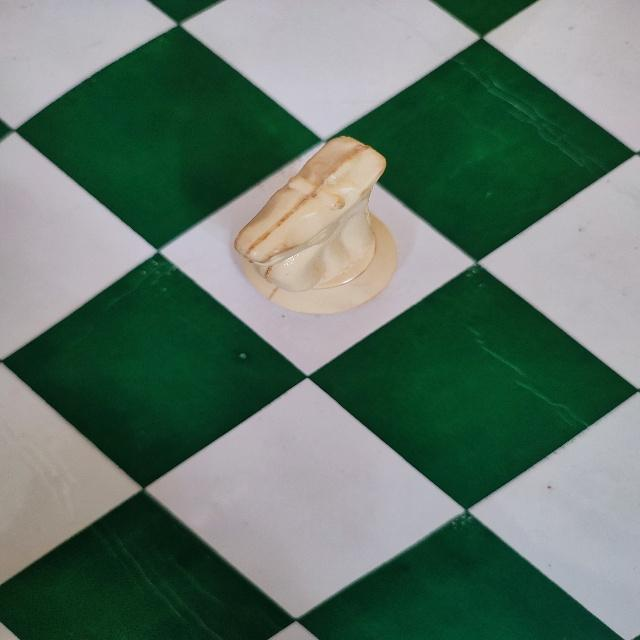Knight: (230, 132, 400, 320)
